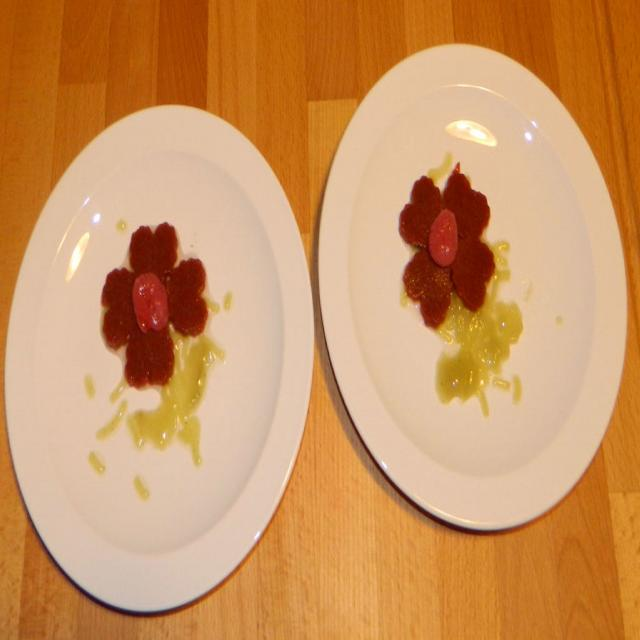non-organic waste: (13, 101, 313, 619)
